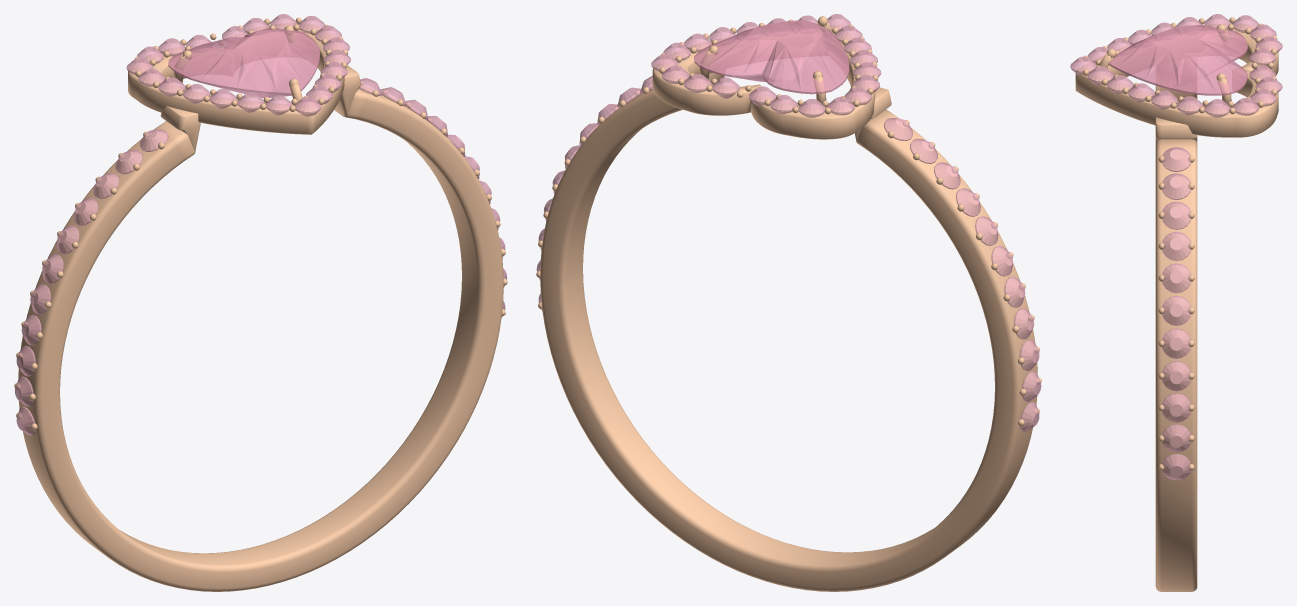
The model's file is J003-display-v04.glb.
3 views of the same model, side by side, from view 1: azimuth 30°, elevation 25°; view 2: azimuth 150°, elevation 25°; view 3: azimuth 270°, elevation 25° (orthographic). The views are drawn at different scales.
Visible parts, largest first — view 1: J003_Metal, J003_AccentStones, J003_MainStone; view 2: J003_Metal, J003_AccentStones, J003_MainStone; view 3: J003_Metal, J003_AccentStones, J003_MainStone.
Part boxes in pixels (left/top/right/bottom): J003_Metal: left=14, top=17, right=507, bottom=591; J003_AccentStones: left=15, top=14, right=507, bottom=435; J003_MainStone: left=168, top=28, right=319, bottom=98; J003_Metal: left=536, top=16, right=1041, bottom=591; J003_AccentStones: left=536, top=14, right=1041, bottom=432; J003_MainStone: left=694, top=20, right=849, bottom=94; J003_Metal: left=1075, top=17, right=1278, bottom=591; J003_AccentStones: left=1070, top=14, right=1282, bottom=480; J003_MainStone: left=1108, top=25, right=1247, bottom=95.
Bounding box in the file's own units: 0.0185 × 0.0195 × 0.00711.
